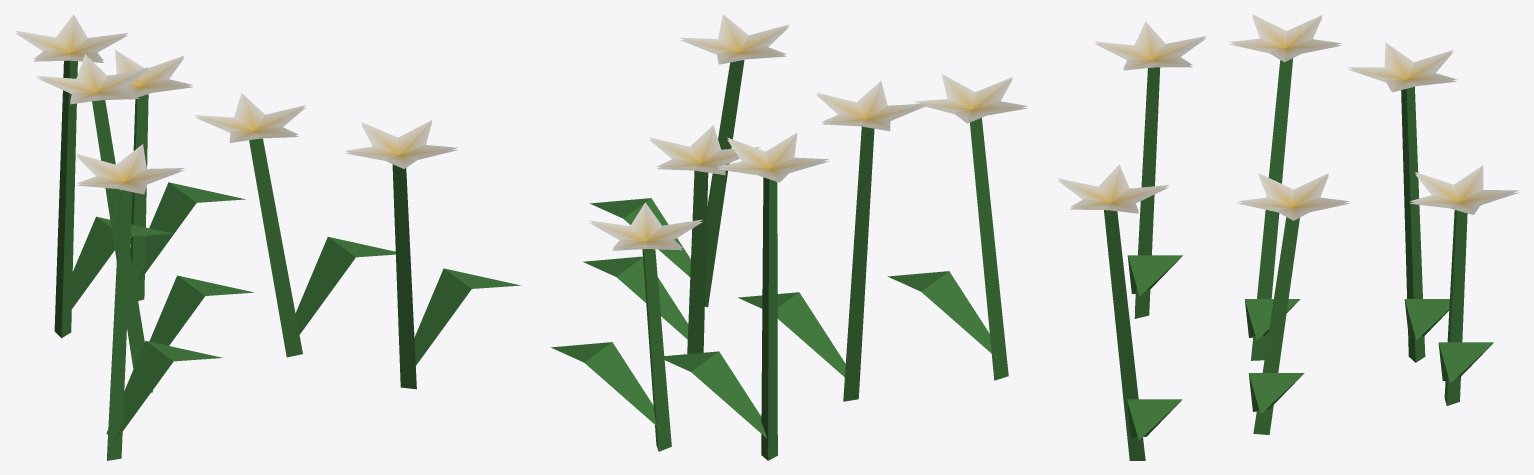
The model's file is flower_patch.glb.
3 views of the same model, side by side, from view 1: azimuth 30°, elevation 25°; view 2: azimuth 150°, elevation 25°; view 3: azimuth 270°, elevation 25° (orthographic).
Parts seen in each view (by area): view 1: Flowers; view 2: Flowers; view 3: Flowers.
Boxes of the visible parts, x1,y1,x2,y2 form: Flowers: (15, 14, 520, 460); Flowers: (551, 14, 1027, 460); Flowers: (1057, 14, 1519, 460).
Bounding box in the file's own units: 0.6331 × 0.4267 × 0.5789.
